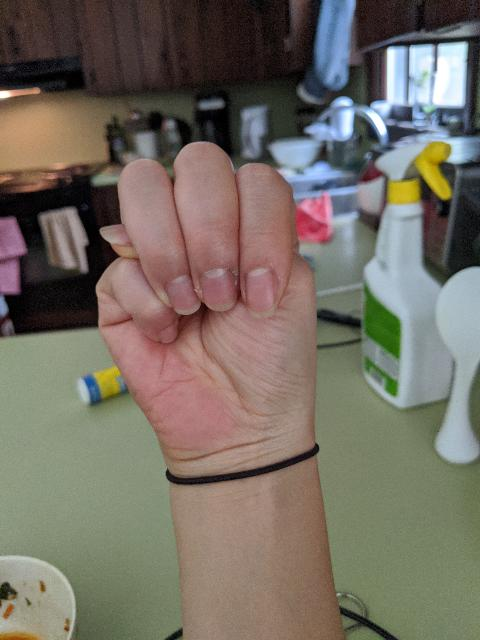M: (87, 134, 327, 450)
